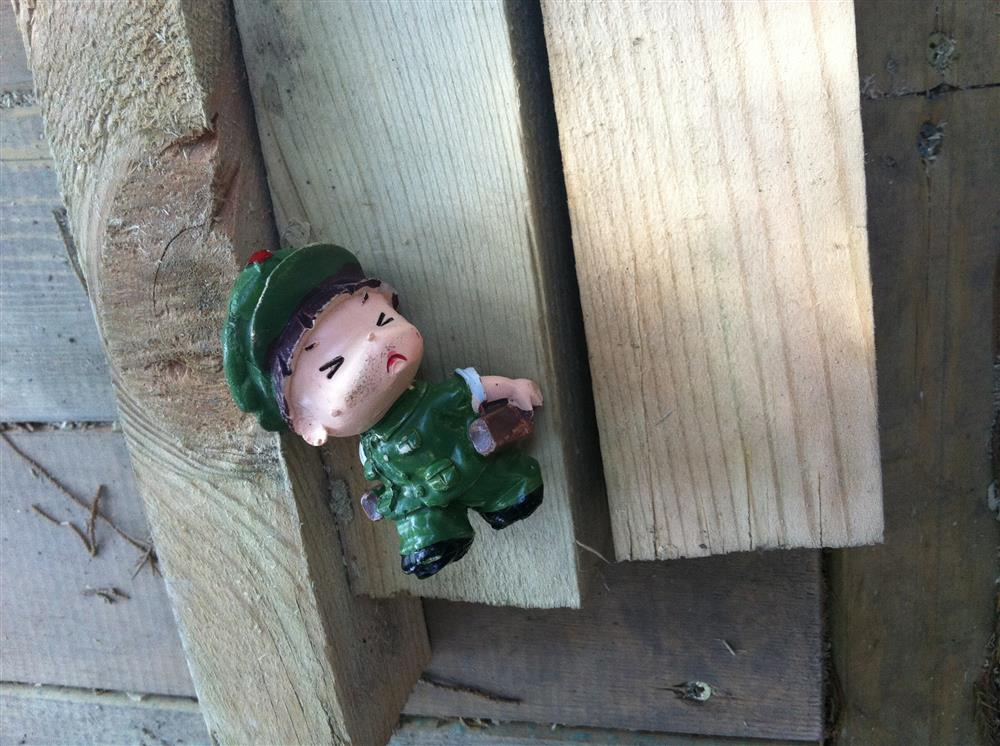red_army: (219, 241, 545, 576)
